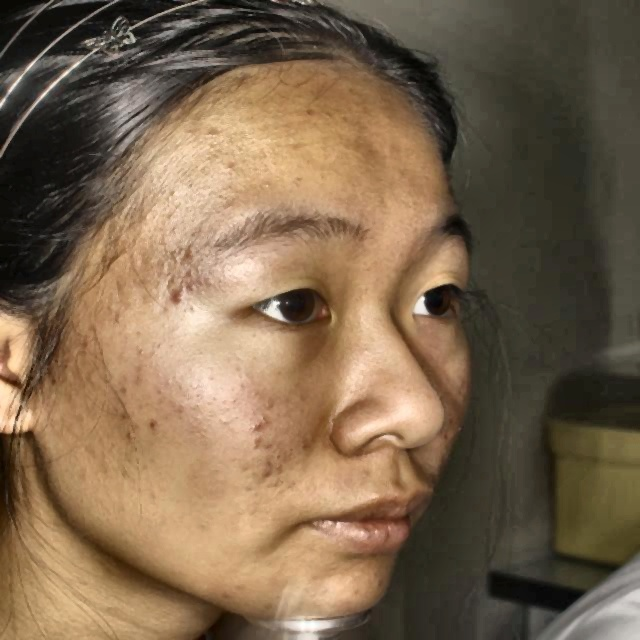comedone: (240, 413, 279, 452), (163, 281, 191, 313), (251, 458, 282, 483)
